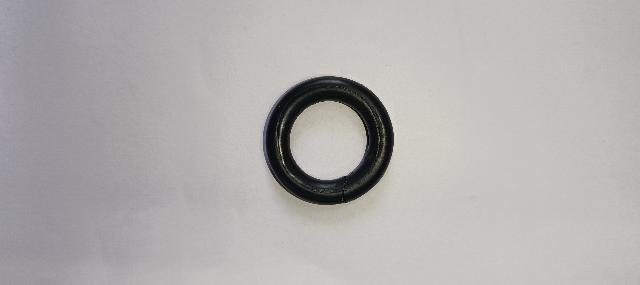crack: (339, 172, 352, 216)
